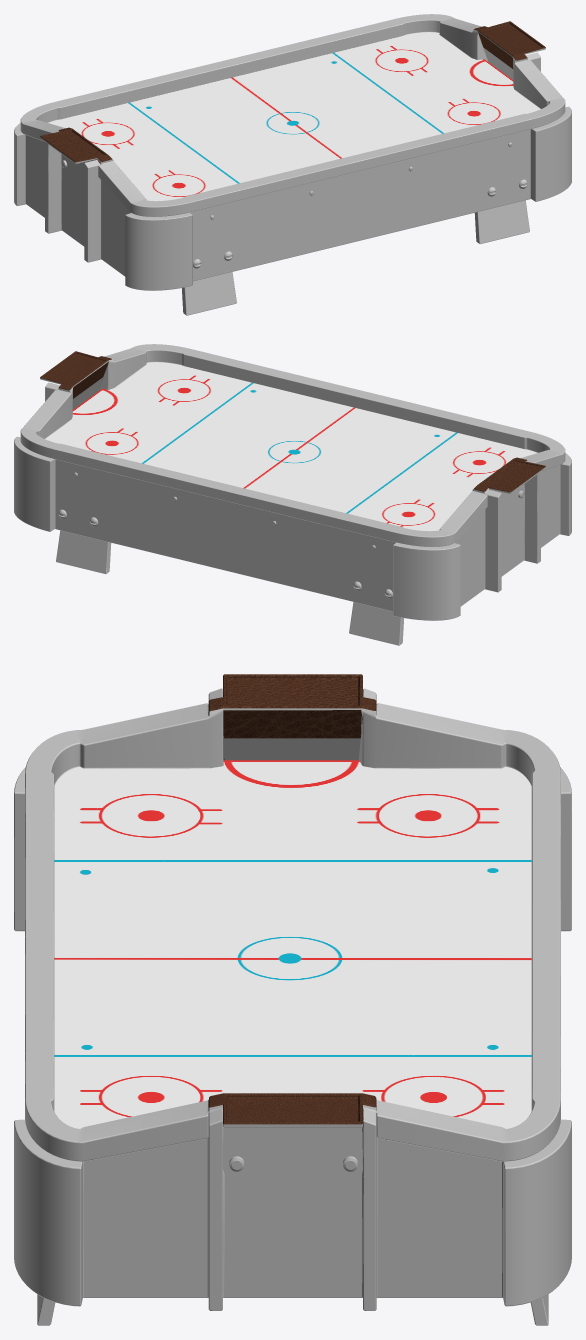
File: HockeyTableFinished.fbx
The picture shows the model from 3 angles, top to bottom: view 1: azimuth 30°, elevation 25°; view 2: azimuth 150°, elevation 25°; view 3: azimuth 270°, elevation 25°; orthographic projection. The views are drawn at different scales.
Visible parts, largest first — view 1: Table, top; view 2: Table, top; view 3: top, Table.
Boxes of the visible parts, x1,y1,x2,y2 form: Table: (14, 14, 571, 315); top: (48, 32, 540, 201); Table: (14, 344, 571, 645); top: (45, 362, 537, 531); top: (54, 760, 531, 1128); Table: (14, 674, 571, 1325).
Bounding box in the file's own units: 1010 × 277 × 530.
